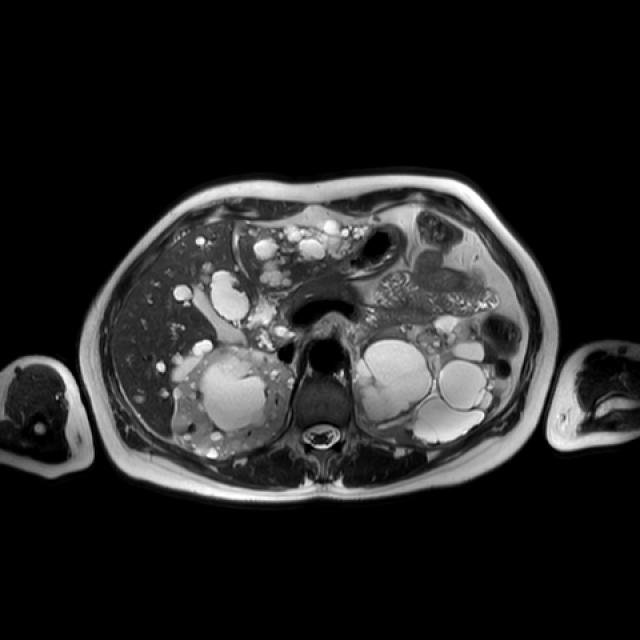sag: (173, 346, 295, 455)
sol: (356, 317, 509, 444)
